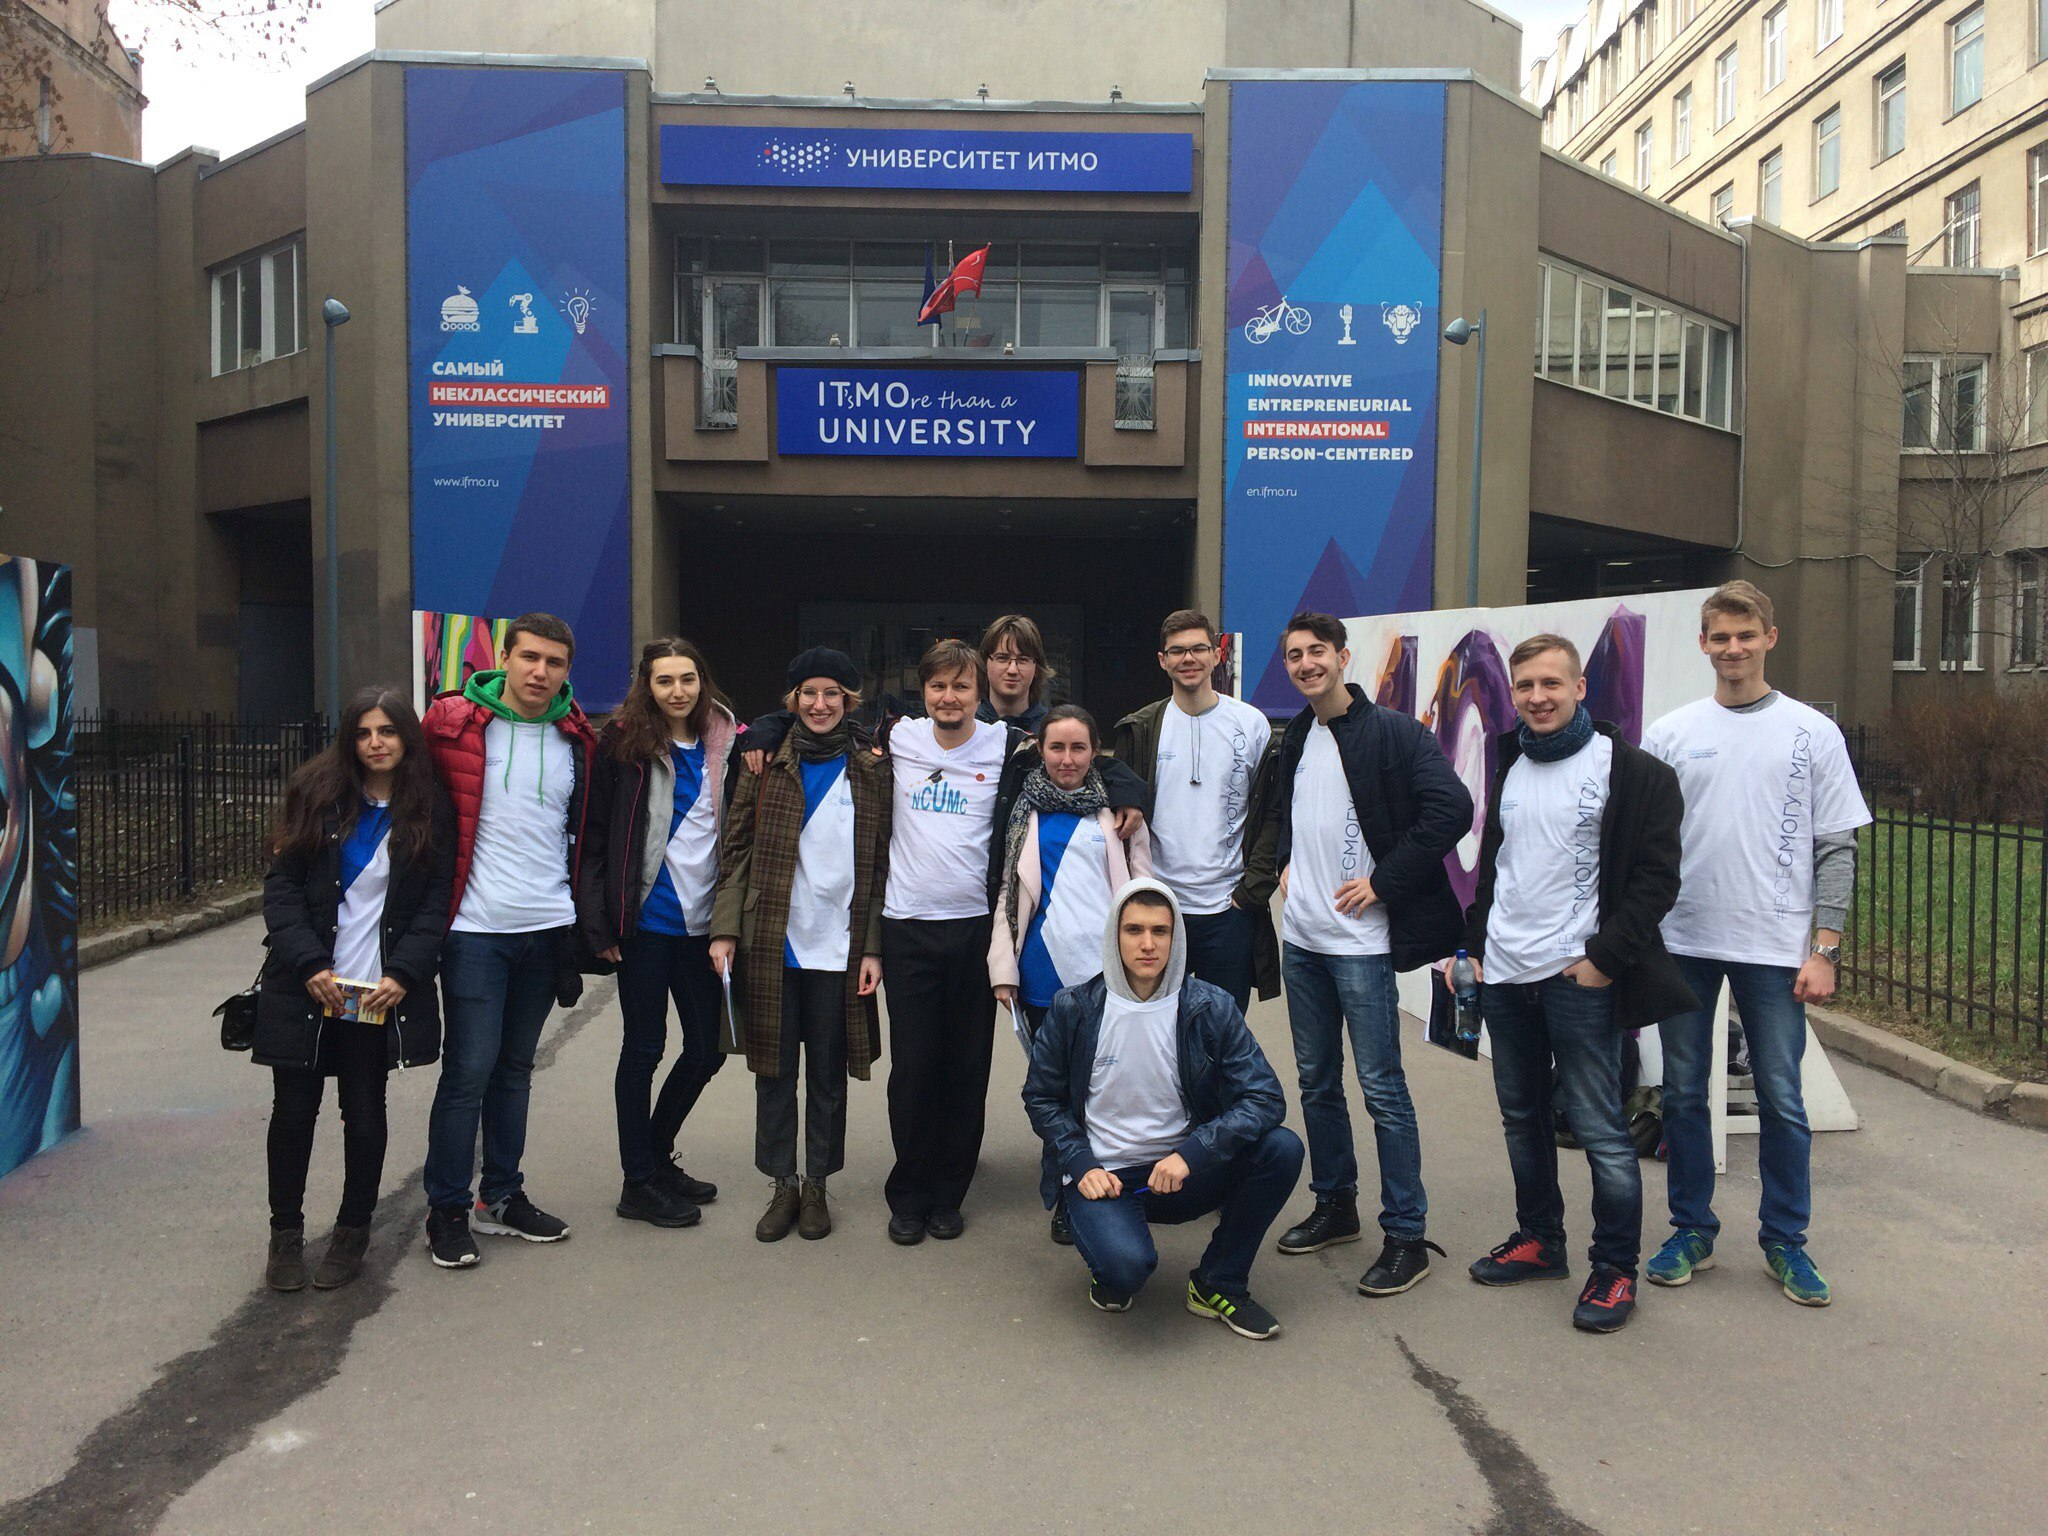students: (1442, 629, 1685, 1337), (1641, 580, 1872, 1310), (1247, 611, 1475, 1300), (1026, 877, 1307, 1343), (423, 615, 596, 1267), (593, 638, 775, 1234), (709, 645, 891, 1243), (266, 686, 445, 1291), (872, 640, 1037, 1243), (988, 707, 1156, 1240), (1112, 607, 1272, 1019), (974, 619, 1060, 737)
